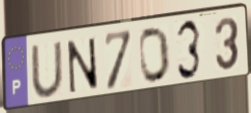3: (174, 18, 207, 82), (213, 16, 240, 74)
7: (104, 27, 133, 93)
N: (65, 36, 101, 96)
O: (138, 25, 172, 86)
U: (29, 39, 66, 100)
